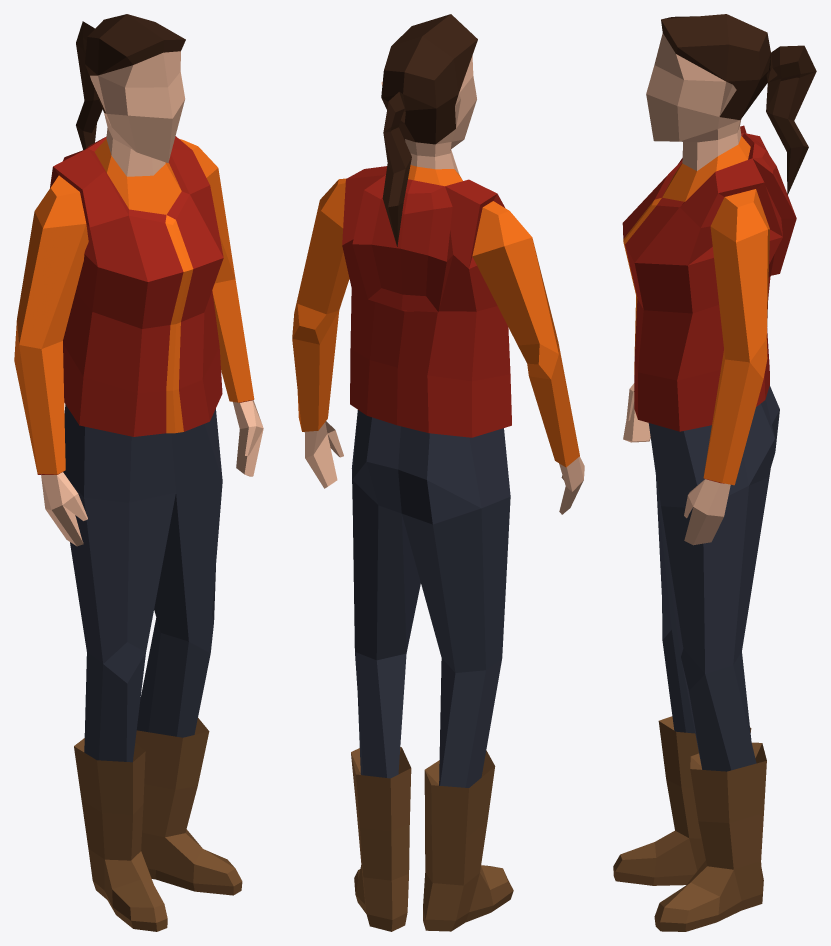
File: AutumnWomanA.001.glb
3 views of the same model, side by side, from view 1: azimuth 30°, elevation 25°; view 2: azimuth 150°, elevation 25°; view 3: azimuth 270°, elevation 25° (orthographic).
Parts seen in each view (by area): view 1: AutumnWomanA.001; view 2: AutumnWomanA.001; view 3: AutumnWomanA.001.
Part boxes in pixels (x1,y1,x2,y2): AutumnWomanA.001: (14,14,263,931); AutumnWomanA.001: (292,14,584,931); AutumnWomanA.001: (613,14,816,931).
Bounding box in the file's own units: 0.5027 × 1.71 × 0.3592.
1 material, 1 textured.
